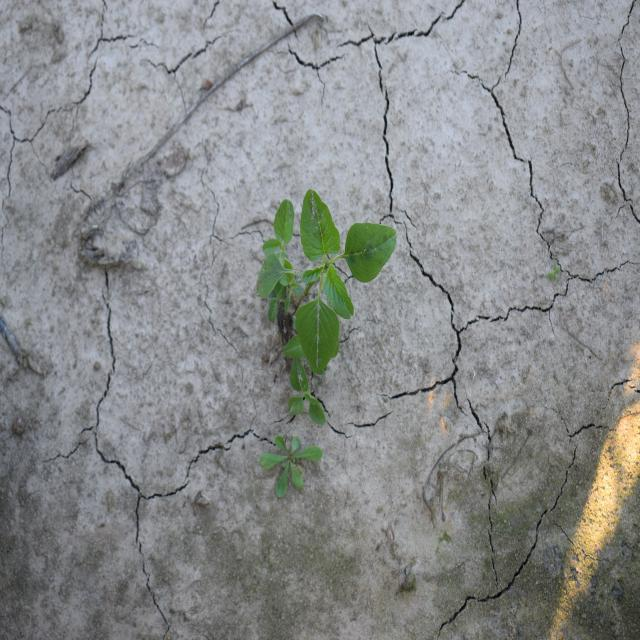Carpetweed: (259, 436, 323, 500)
PalmerAmaranth: (255, 188, 398, 426)
